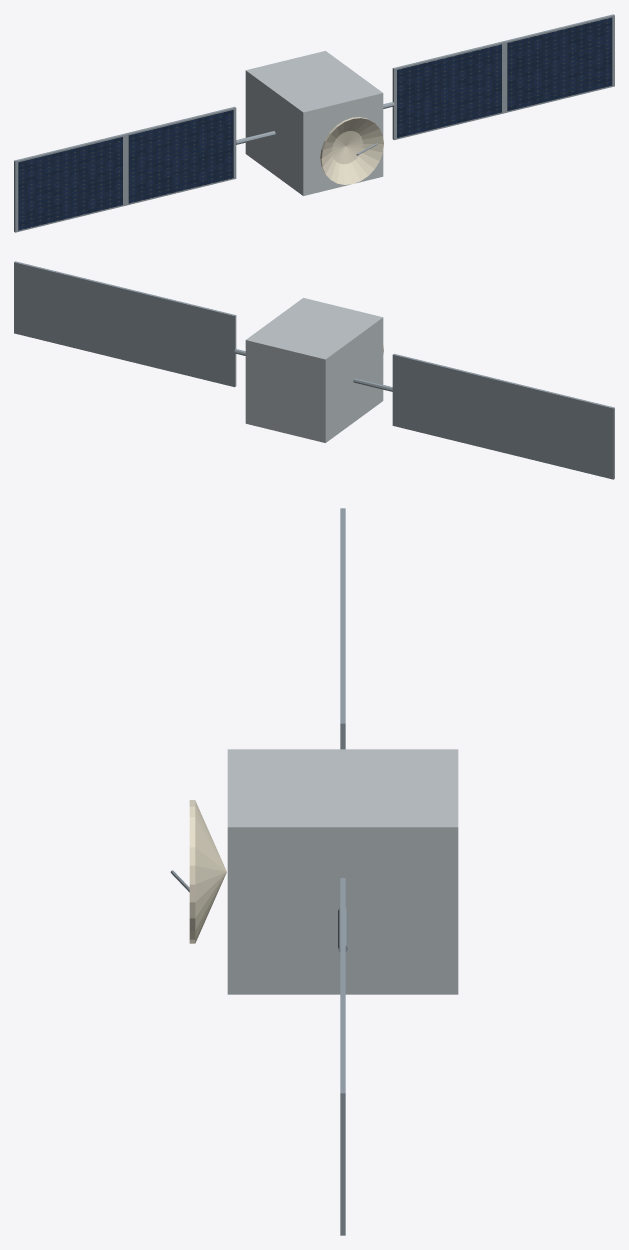
Rendered from ref-tjsxx-66990.glb.
3 renders of one model, top to bottom at view 1: azimuth 30°, elevation 25°; view 2: azimuth 150°, elevation 25°; view 3: azimuth 270°, elevation 25°, orthographic. The views are drawn at different scales.
Visible parts, largest first — view 1: Photovoltaic laminates (×4), Spacecraft body, Array frame (×4), Reflector dish; view 2: Array frame (×4), Spacecraft body; view 3: Spacecraft body, Reflector dish, Array frame.
Boxes of the visible parts, x1,y1,x2,y2 form: Photovoltaic laminates (×4): (18, 17, 612, 230); Spacecraft body: (245, 51, 383, 195); Array frame (×4): (14, 14, 614, 232); Reflector dish: (320, 117, 383, 184); Array frame (×4): (14, 261, 614, 479); Spacecraft body: (245, 298, 383, 442); Spacecraft body: (227, 749, 458, 994); Reflector dish: (189, 800, 226, 943); Array frame: (340, 985, 345, 1235).
Size of the model in its own units: 30 by 4 by 6.23.
Materials: 4 (1 with a texture image).
